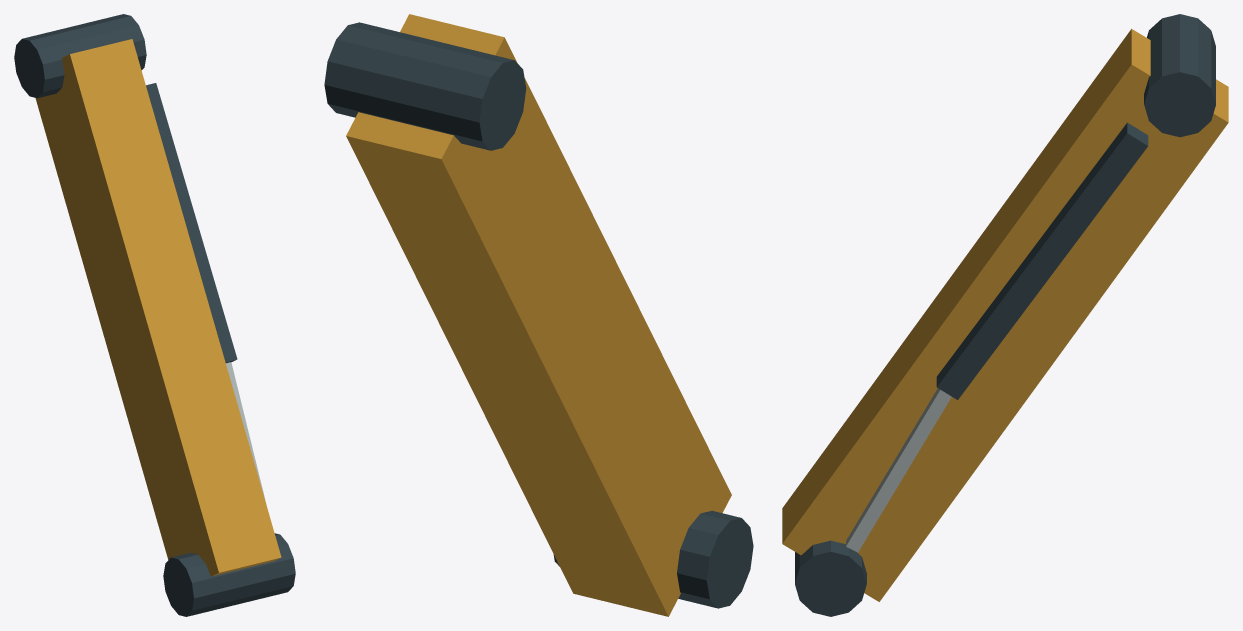
The model's file is exc-stick.glb.
The picture shows the model from 3 angles, left to right: view 1: azimuth 30°, elevation 25°; view 2: azimuth 150°, elevation 25°; view 3: azimuth 270°, elevation 25°; orthographic projection. The views are drawn at different scales.
Bounding box in the file's own units: 1.33 × 5.68 × 4.22.
